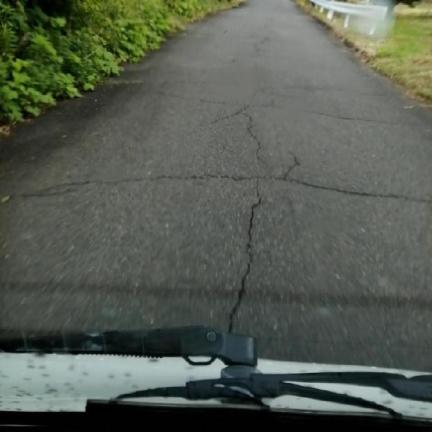Road: (0, 0, 431, 370)
